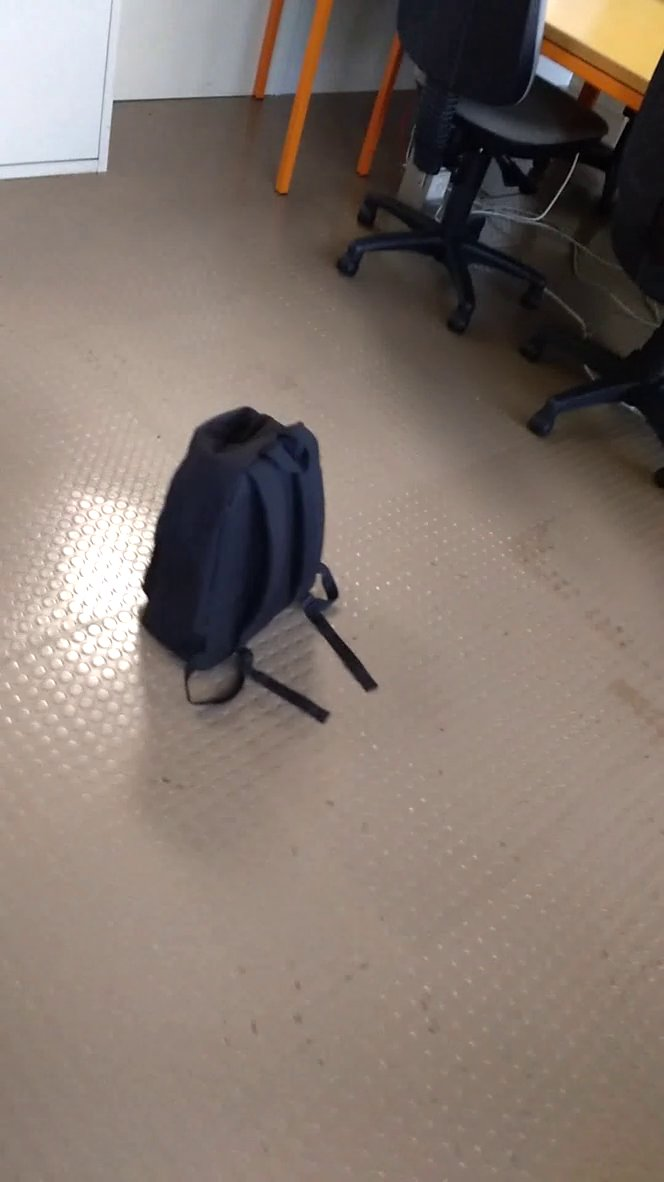bag: (131, 400, 409, 757)
